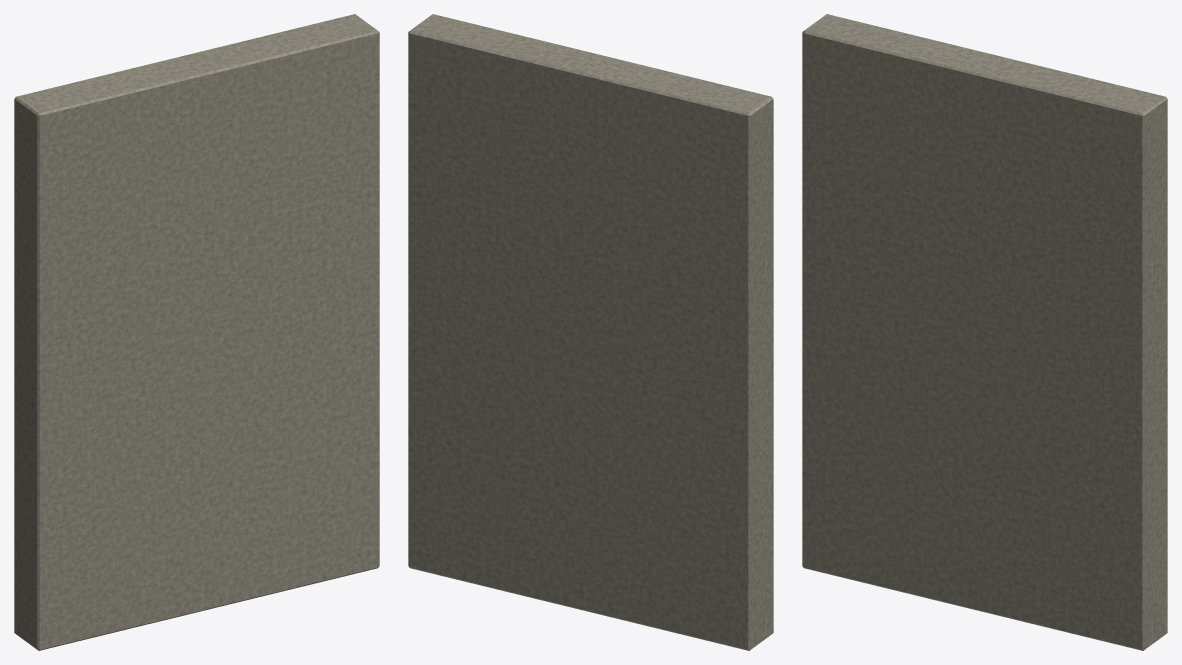
The model's file is METL21RC_lod1.glb.
The picture shows the model from 3 angles, left to right: view 1: azimuth 30°, elevation 25°; view 2: azimuth 150°, elevation 25°; view 3: azimuth 330°, elevation 25°; orthographic projection.
Parts seen in each view (by area): view 1: METL21RC_LOD1; view 2: METL21RC_LOD1; view 3: METL21RC_LOD1.
Part boxes in pixels (x1=…): METL21RC_LOD1: x1=14, y1=14, x2=379, y2=650; METL21RC_LOD1: x1=408, y1=14, x2=773, y2=650; METL21RC_LOD1: x1=802, y1=14, x2=1167, y2=650.
Bounding box in the file's own units: 2 × 3 × 0.25.
1 material, 1 textured.
